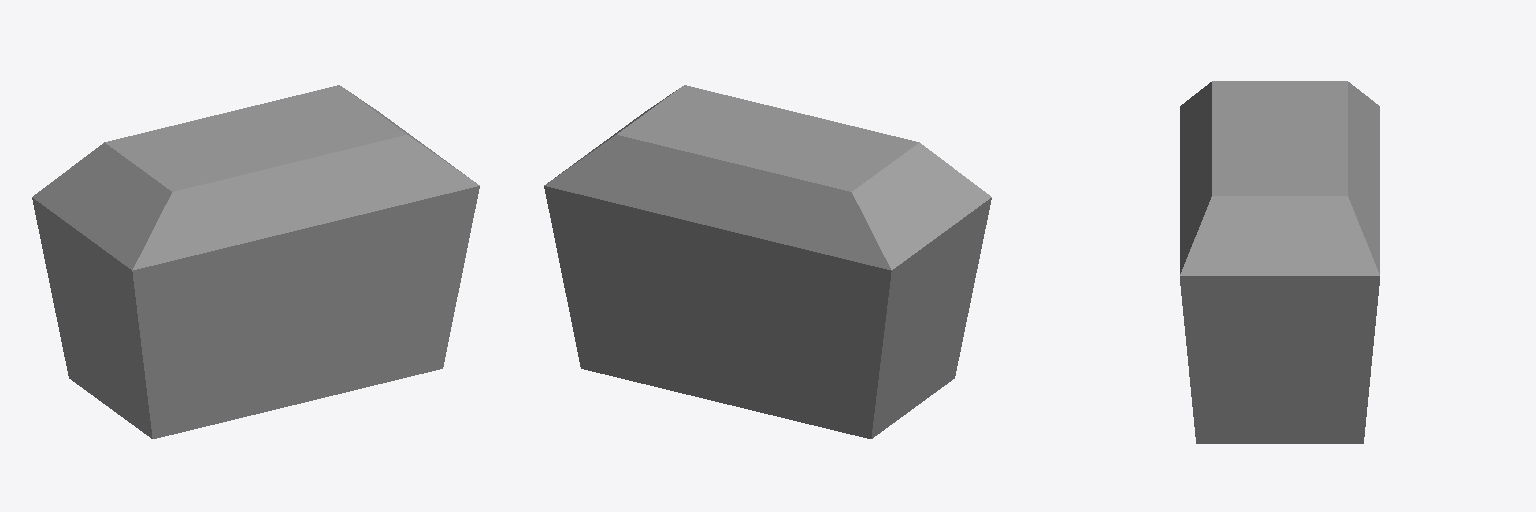
Rendered from Coffre.obj.
The picture shows the model from 3 angles: view 1: azimuth 30°, elevation 25°; view 2: azimuth 150°, elevation 25°; view 3: azimuth 270°, elevation 25°; orthographic projection.
Parts seen in each view (by area): view 1: Cube.001; view 2: Cube.001; view 3: Cube.001.
Part boxes in pixels (x1,y1,x2,y2): Cube.001: (32, 85, 479, 438); Cube.001: (544, 85, 991, 438); Cube.001: (1180, 81, 1379, 443).
Bounding box in the file's own units: 4 × 2.58 × 2.